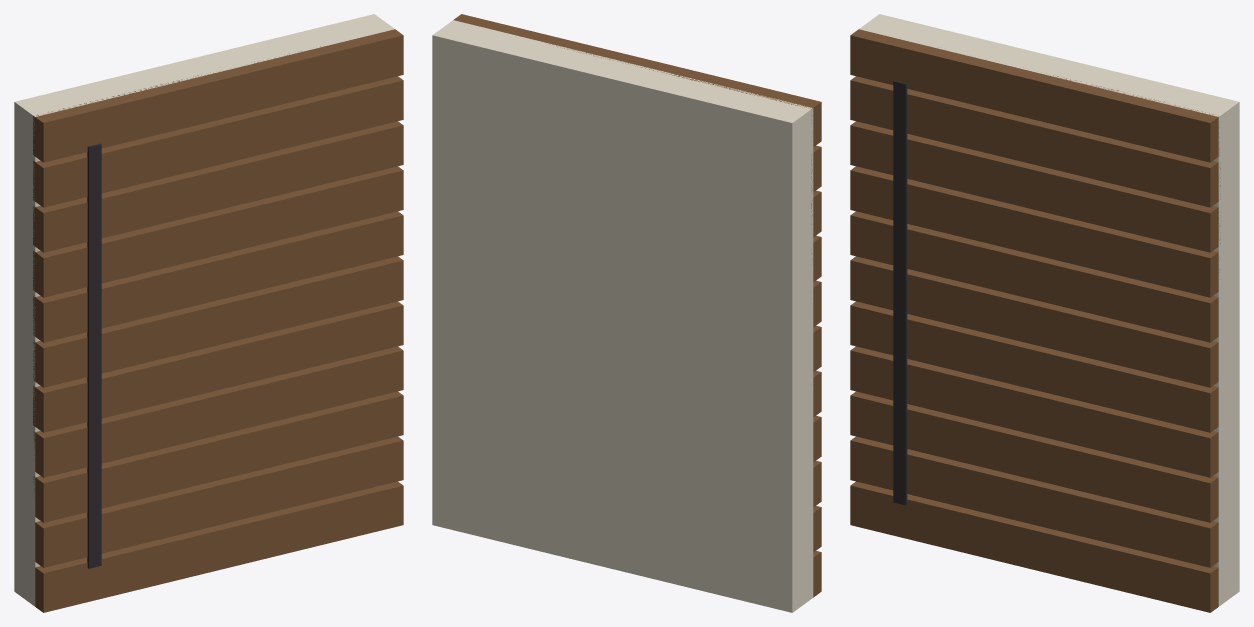
File: SM_Wall_RusticLog_01_Straight.glb
The picture shows the model from 3 angles, left to right: view 1: azimuth 30°, elevation 25°; view 2: azimuth 150°, elevation 25°; view 3: azimuth 330°, elevation 25°; orthographic projection.
Visible parts, largest first — view 1: SM_Wall_RusticLog_01_Straight_Panel, SM_Wall_RusticLog_01_Straight_Log10, SM_Wall_RusticLog_01_Straight_Log0, SM_Wall_RusticLog_01_Straight_Log4, SM_Wall_RusticLog_01_Straight_Log7, SM_Wall_RusticLog_01_Straight_Log8, SM_Wall_RusticLog_01_Straight_Log9, SM_Wall_RusticLog_01_Straight_Log5, SM_Wall_RusticLog_01_Straight_Log6, SM_Wall_RusticLog_01_Straight_Log3, SM_Wall_RusticLog_01_Straight_Log2, SM_Wall_RusticLog_01_Straight_Log1 (+1 smaller); view 2: SM_Wall_RusticLog_01_Straight_Panel, SM_Wall_RusticLog_01_Straight_Log10; view 3: SM_Wall_RusticLog_01_Straight_Panel, SM_Wall_RusticLog_01_Straight_Log10, SM_Wall_RusticLog_01_Straight_Log0, SM_Wall_RusticLog_01_Straight_Log9, SM_Wall_RusticLog_01_Straight_Log8, SM_Wall_RusticLog_01_Straight_Log1, SM_Wall_RusticLog_01_Straight_Log2, SM_Wall_RusticLog_01_Straight_Log3, SM_Wall_RusticLog_01_Straight_Log4, SM_Wall_RusticLog_01_Straight_Log5, SM_Wall_RusticLog_01_Straight_Log7, SM_Wall_RusticLog_01_Straight_Log6 (+1 smaller).
Boxes of the visible parts, x1,y1,x2,y2 form: SM_Wall_RusticLog_01_Straight_Panel: (14,14,394,606); SM_Wall_RusticLog_01_Straight_Log10: (33,29,403,162); SM_Wall_RusticLog_01_Straight_Log0: (35,481,403,612); SM_Wall_RusticLog_01_Straight_Log4: (33,301,403,432); SM_Wall_RusticLog_01_Straight_Log7: (33,166,403,297); SM_Wall_RusticLog_01_Straight_Log8: (33,121,403,252); SM_Wall_RusticLog_01_Straight_Log9: (33,76,403,207); SM_Wall_RusticLog_01_Straight_Log5: (33,256,403,387); SM_Wall_RusticLog_01_Straight_Log6: (33,211,403,342); SM_Wall_RusticLog_01_Straight_Log3: (33,346,403,477); SM_Wall_RusticLog_01_Straight_Log2: (33,391,403,522); SM_Wall_RusticLog_01_Straight_Log1: (35,436,403,567); SM_Wall_RusticLog_01_Straight_Panel: (432,20,813,612); SM_Wall_RusticLog_01_Straight_Log10: (454,14,821,146); SM_Wall_RusticLog_01_Straight_Panel: (859,14,1239,606); SM_Wall_RusticLog_01_Straight_Log10: (850,29,1219,162); SM_Wall_RusticLog_01_Straight_Log0: (850,481,1218,612); SM_Wall_RusticLog_01_Straight_Log9: (850,76,1220,207); SM_Wall_RusticLog_01_Straight_Log8: (850,121,1220,252); SM_Wall_RusticLog_01_Straight_Log1: (850,436,1218,567); SM_Wall_RusticLog_01_Straight_Log2: (850,391,1218,522); SM_Wall_RusticLog_01_Straight_Log3: (850,346,1218,477); SM_Wall_RusticLog_01_Straight_Log4: (850,301,1218,432); SM_Wall_RusticLog_01_Straight_Log5: (850,256,1218,387); SM_Wall_RusticLog_01_Straight_Log7: (850,166,1218,297); SM_Wall_RusticLog_01_Straight_Log6: (850,211,1218,342).
Bounding box in the file's own units: 2 × 2.6 × 0.2925.
